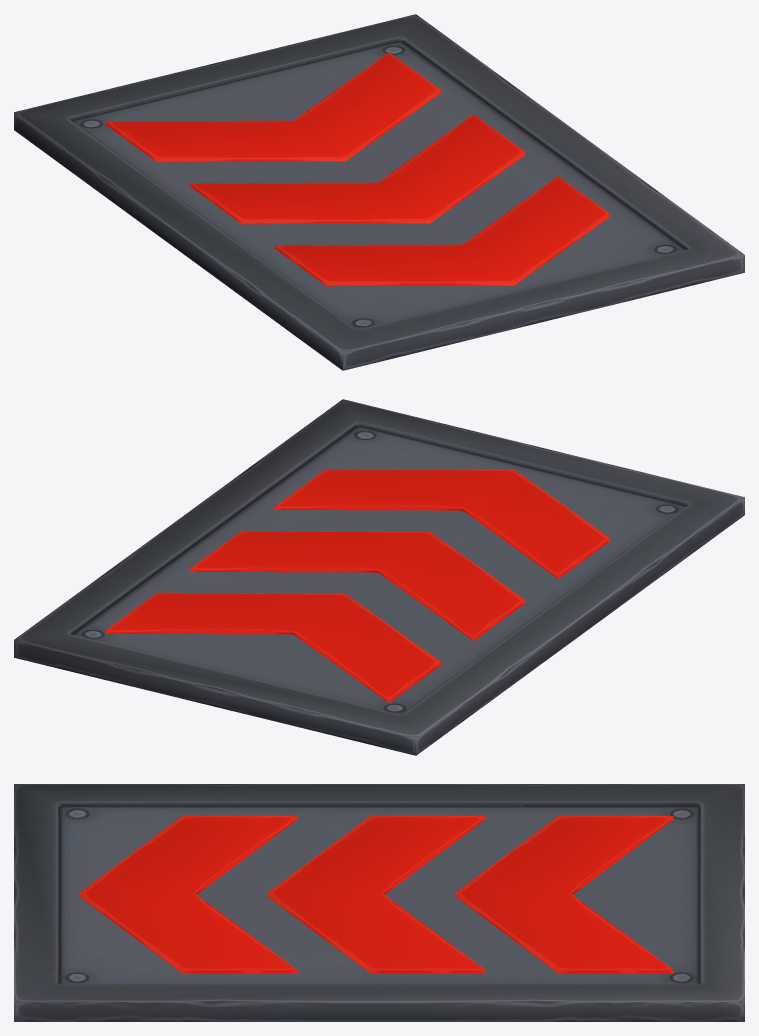
File: SM_Step_Boost_02.glb
3 renders of one model, top to bottom at view 1: azimuth 30°, elevation 25°; view 2: azimuth 150°, elevation 25°; view 3: azimuth 270°, elevation 25°, orthographic. The views are drawn at different scales.
Parts seen in each view (by area): view 1: SM_Step_Boost_02; view 2: SM_Step_Boost_02; view 3: SM_Step_Boost_02.
Part boxes in pixels (x1,y1,x2,y2): SM_Step_Boost_02: (14,14,744,370); SM_Step_Boost_02: (14,399,744,755); SM_Step_Boost_02: (14,784,744,1021).
Size of the model in its own units: 1.41 by 0.06 by 2.
1 material, 1 textured.
